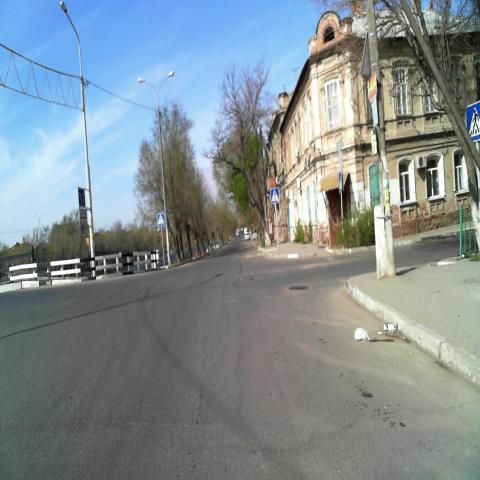5_15_2_2: (78, 187, 85, 206)
